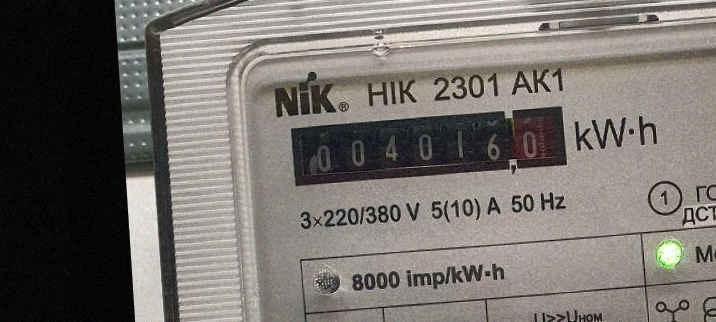0: (413, 128, 437, 165), (312, 140, 335, 174), (517, 127, 540, 160), (347, 135, 368, 170)
1: (451, 125, 468, 160)
4: (380, 130, 401, 165)
6: (482, 128, 503, 161)
screen: (282, 98, 576, 194)
